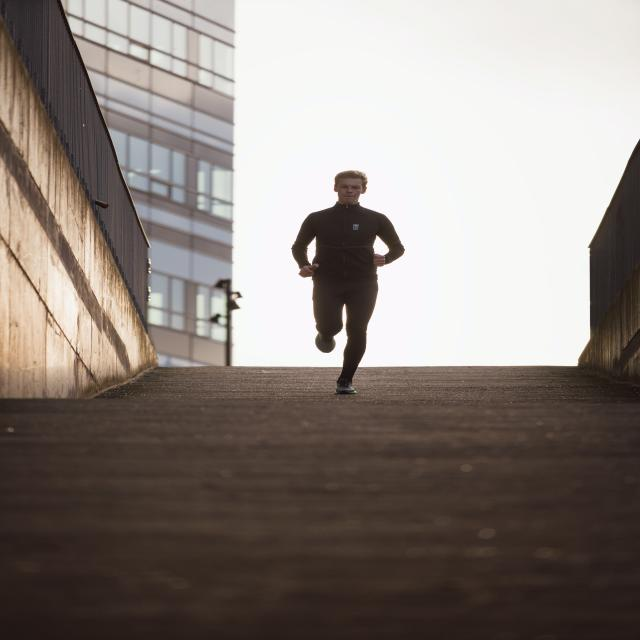running: (289, 166, 415, 393)
